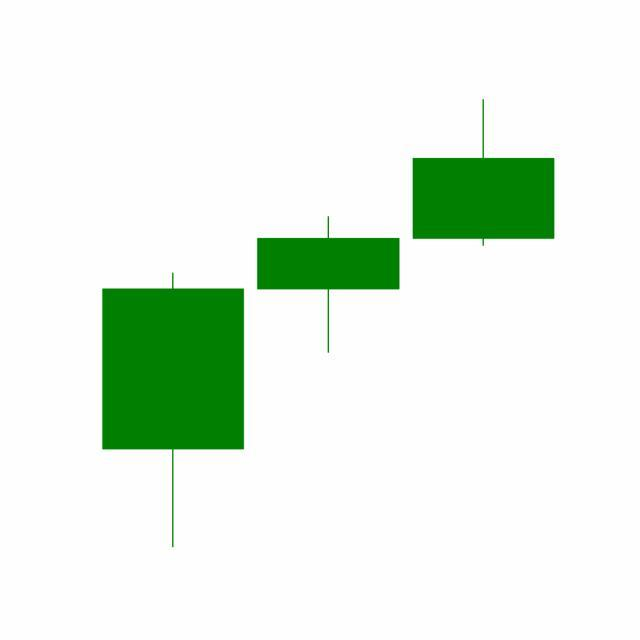Hanging Man: (250, 215, 407, 355)
